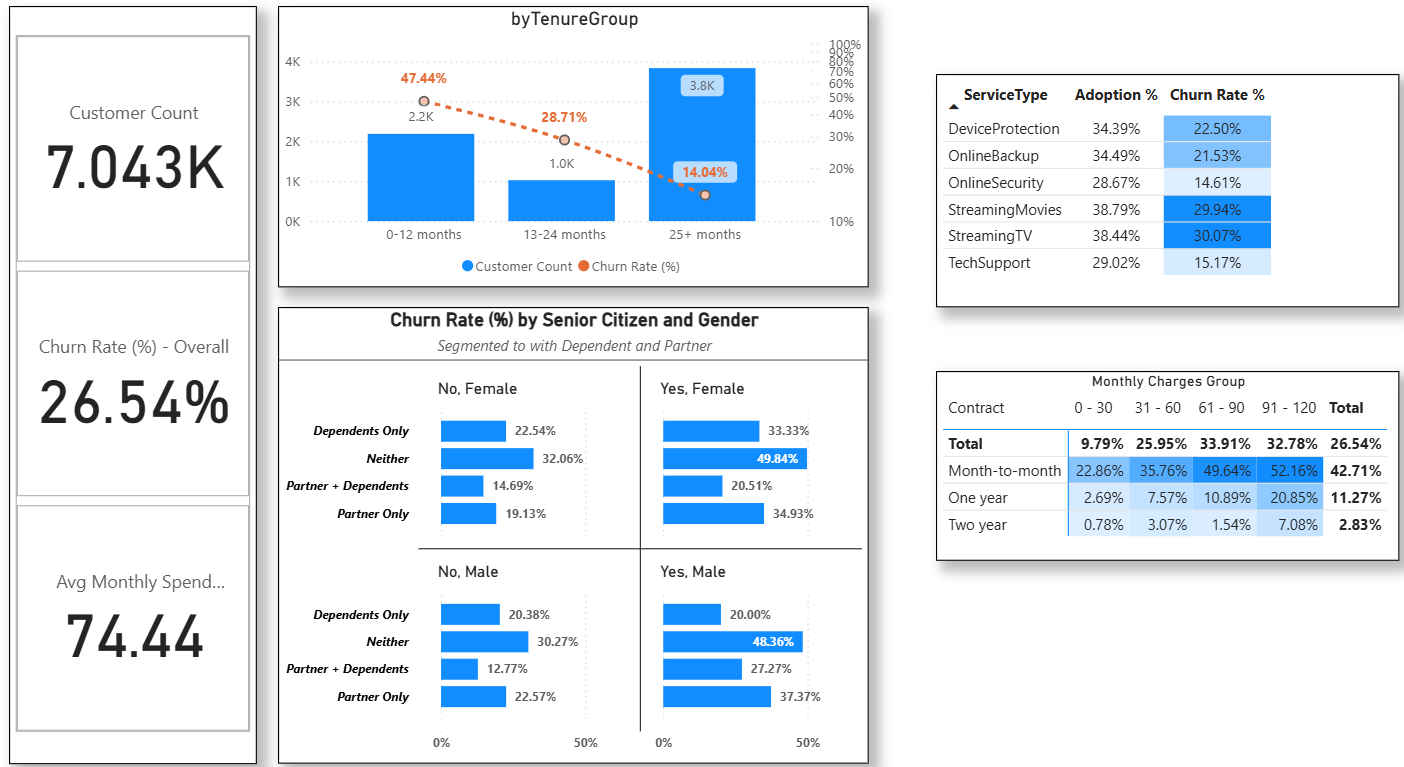

Layout of this report page (visuals, bound fields, positions):
{"tool":"powerbi","page":{"name":"Executive Summary","canvas":[1280,720],"ordinal":0},"visuals":[{"type":"cardVisual","fields":{"Data":["Count(Telco_Cusomer_Churn as of 18Sep2025.customerID)","Telco_Cusomer_Churn as of 18Sep2025.Churn Rate (%)","UnpivotedVAS.Avg Monthly Spend (Churned)"]},"box":[16.1,20.6,222.1,678.8],"z":0},{"type":"clusteredBarChart","title":"Churn Rate (%) by Senior Citizen and Gender","fields":{"Rows":["Telco_Cusomer_Churn as of 18Sep2025.SeniorCitizen","Telco_Cusomer_Churn as of 18Sep2025.gender"],"Y":["Telco_Cusomer_Churn as of 18Sep2025.Churn Rate (%)"],"Category":["Telco_Cusomer_Churn as of 18Sep2025.SegmentPartnerDependents"]},"box":[257,290.1,529.3,409.3],"z":1},{"type":"lineStackedColumnComboChart","title":"byTenureGroup","fields":{"Y2":["UnpivotedVAS.Churn Rate (%)"],"Y":["Count(UnpivotedVAS.customerID)"],"Category":["UnpivotedVAS.TenureGroup"]},"box":[257,20.6,529.3,251.6],"z":2},{"type":"pivotTable","title":"Monthly Charges Group","fields":{"Rows":["UnpivotedVAS.Contract"],"Values":["UnpivotedVAS.Churn Rate (%)"],"Columns":["UnpivotedVAS.MonthlyCharges (groups)"]},"box":[846.3,347.5,414.6,170.1],"z":4},{"type":"pivotTable","fields":{"Rows":["UnpivotedVAS.ServiceType"],"Values":["UnpivotedVAS.Adoption %","UnpivotedVAS.Churn Rate % Adoption"]},"box":[846.3,81.5,414.6,208.7],"z":5}]}

Visuals, with their boxes in screenshot pixels (x1, y1, x2, y2), scaled from the page's 1280x720 canvas onto the 1404x767 screenshot:
cardVisual - Count(Telco_Cusomer_Churn as of 18Sep2025.customerID) x Telco_Cusomer_Churn as of 18Sep2025.Churn Rate (%): region(18, 22, 261, 745)
"Churn Rate (%) by Senior Citizen and Gender" clusteredBarChart: region(282, 309, 862, 745)
"byTenureGroup" lineStackedColumnComboChart: region(282, 22, 862, 290)
"Monthly Charges Group" pivotTable: region(928, 370, 1383, 551)
pivotTable - UnpivotedVAS.ServiceType x UnpivotedVAS.Adoption %: region(928, 87, 1383, 309)
